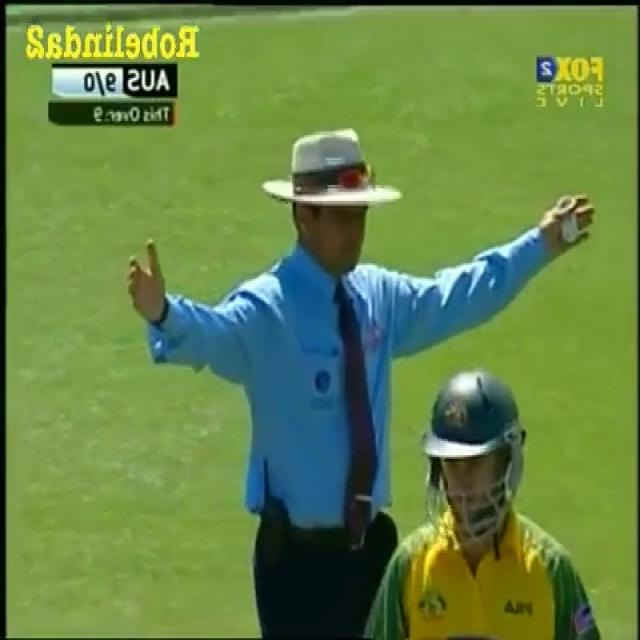Wide: (120, 121, 601, 640)
